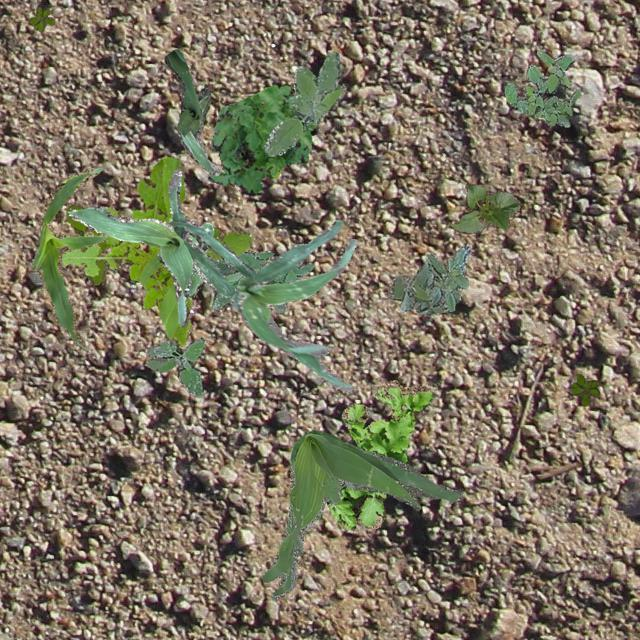crop: (66, 168, 255, 326), (230, 218, 356, 390), (30, 166, 106, 352), (163, 49, 220, 174), (450, 182, 520, 232)
weed: (60, 156, 252, 346), (262, 428, 462, 598), (324, 378, 434, 528), (206, 82, 316, 194), (264, 50, 344, 154), (192, 250, 314, 312), (502, 48, 580, 125), (388, 244, 470, 314), (66, 203, 111, 284), (144, 336, 204, 396), (186, 222, 212, 296), (570, 372, 598, 404), (28, 7, 54, 30)
